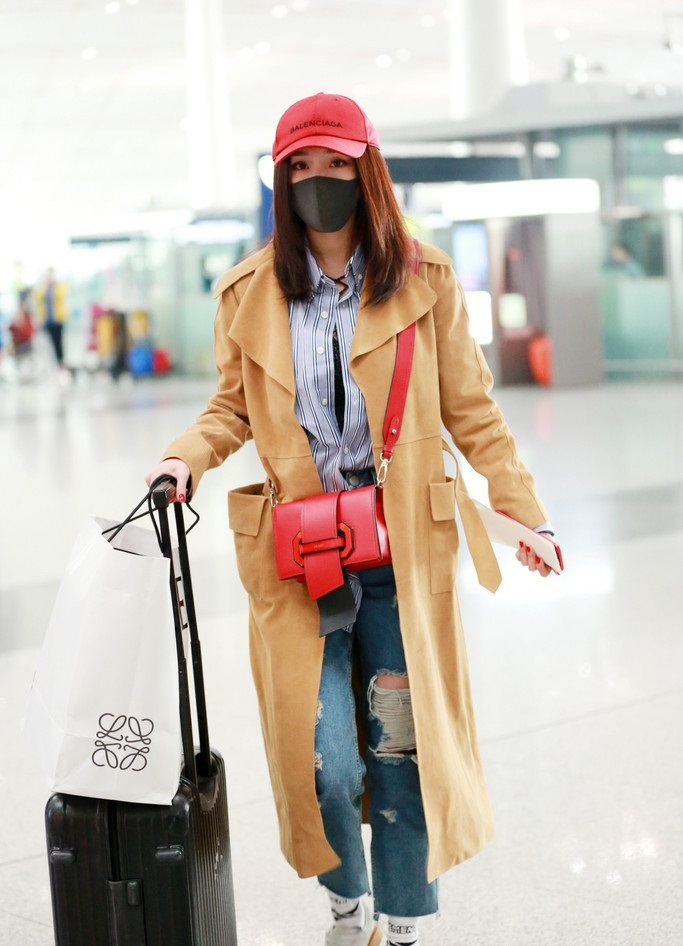face_mask: (288, 133, 355, 233)
